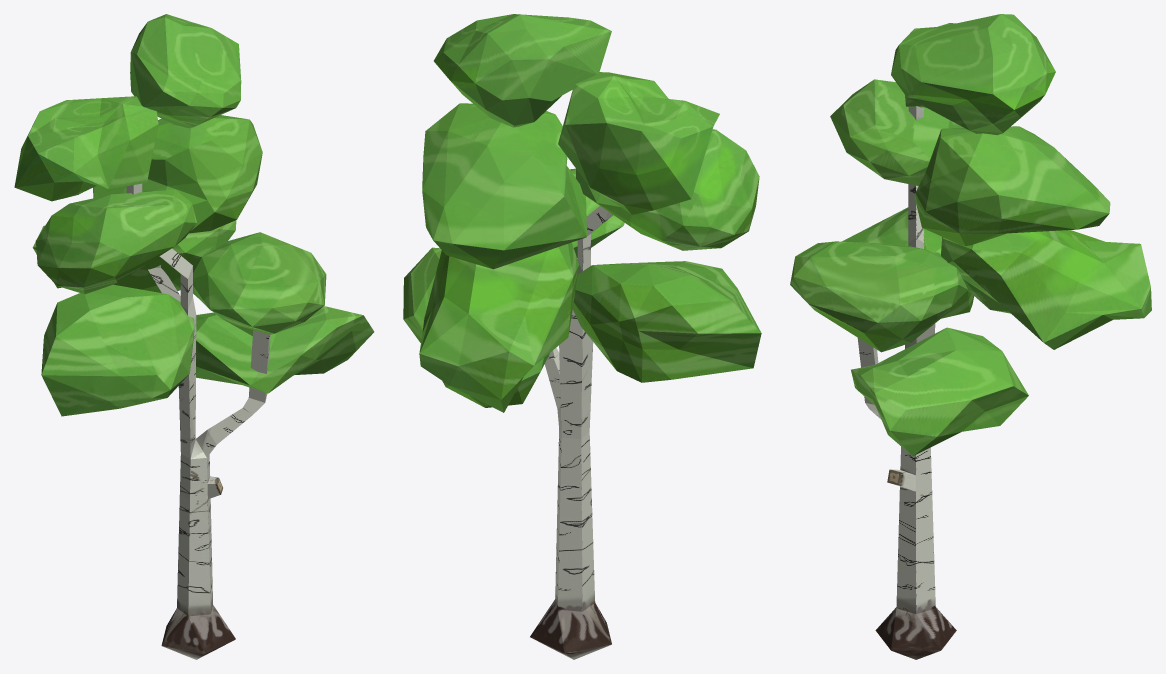
The model's file is дерево2.fbx.
3 views of the same model, side by side, from view 1: azimuth 30°, elevation 25°; view 2: azimuth 150°, elevation 25°; view 3: azimuth 270°, elevation 25° (orthographic). The views are drawn at different scales.
Visible parts, largest first — view 1: Icosphere.001; view 2: Icosphere.001; view 3: Icosphere.001.
Boxes of the visible parts, box(x1,y1,x2,y2) form: Icosphere.001: box(14, 14, 374, 659); Icosphere.001: box(403, 14, 761, 659); Icosphere.001: box(790, 14, 1151, 659).
Bounding box in the file's own units: 770 × 1369 × 690.
